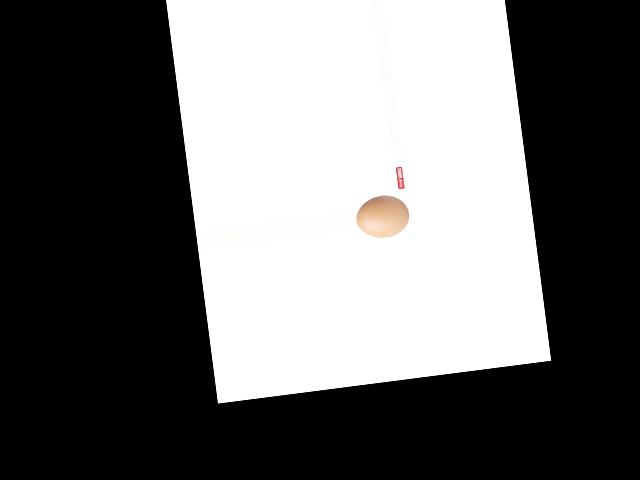egg: (354, 193, 411, 241)
